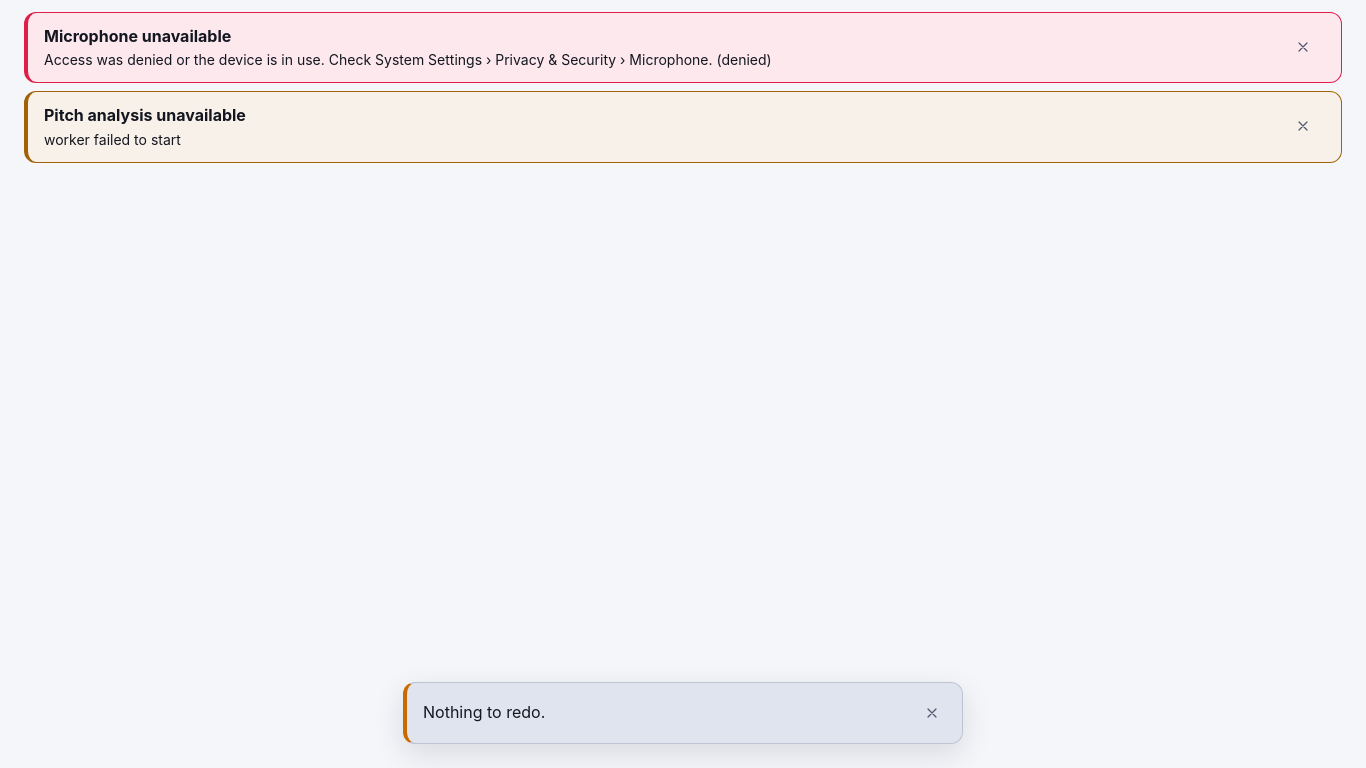
Scenario: alerts › renders errors, warnings and notices with readable text and dismisses them
Expected: the message that starts with "Microphone unavailable" is shown, [44, 26, 231, 46]
Expected: the text "Pitch analysis unavailable" is shown, [44, 106, 246, 126]
Click the button named "Dismiss error": click(1303, 47) [1281, 25, 1325, 69]
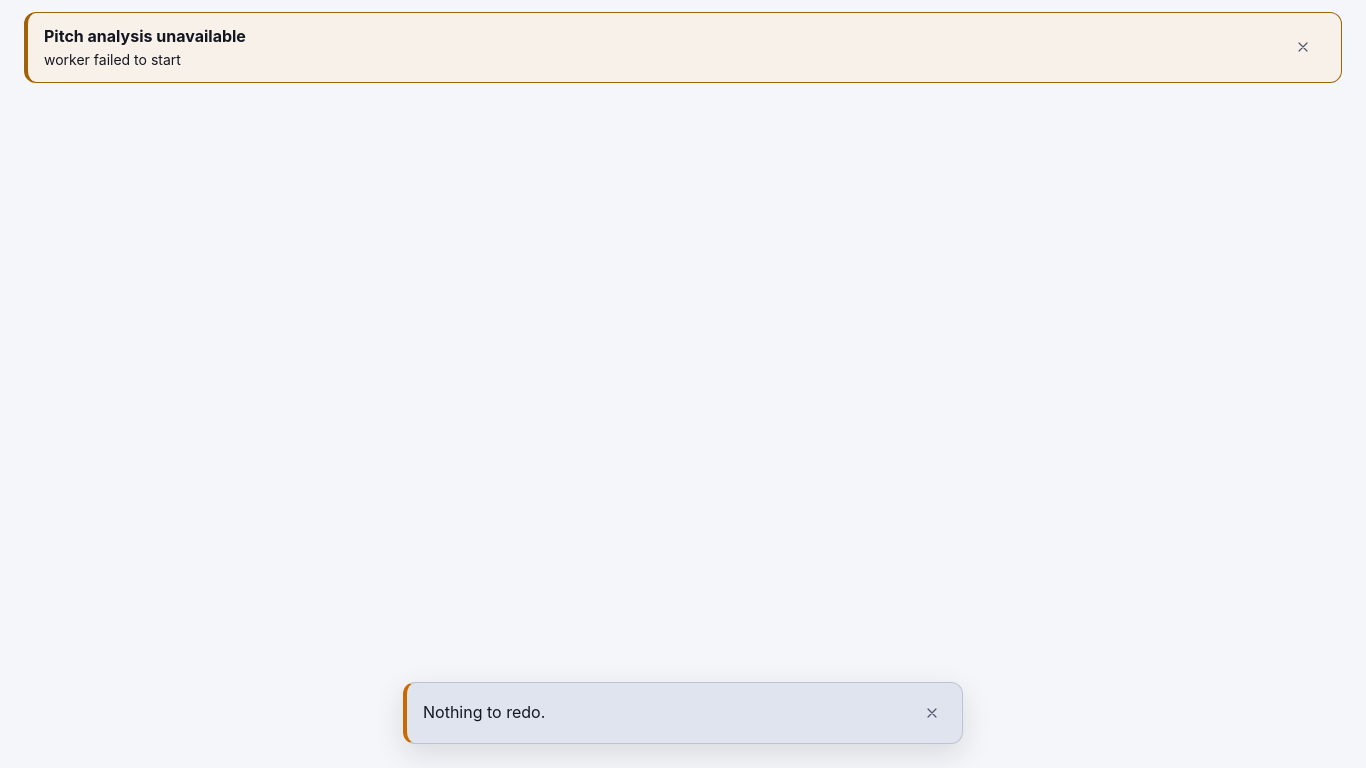
Click the button named "Dismiss warning": click(1303, 47) [1281, 25, 1325, 69]
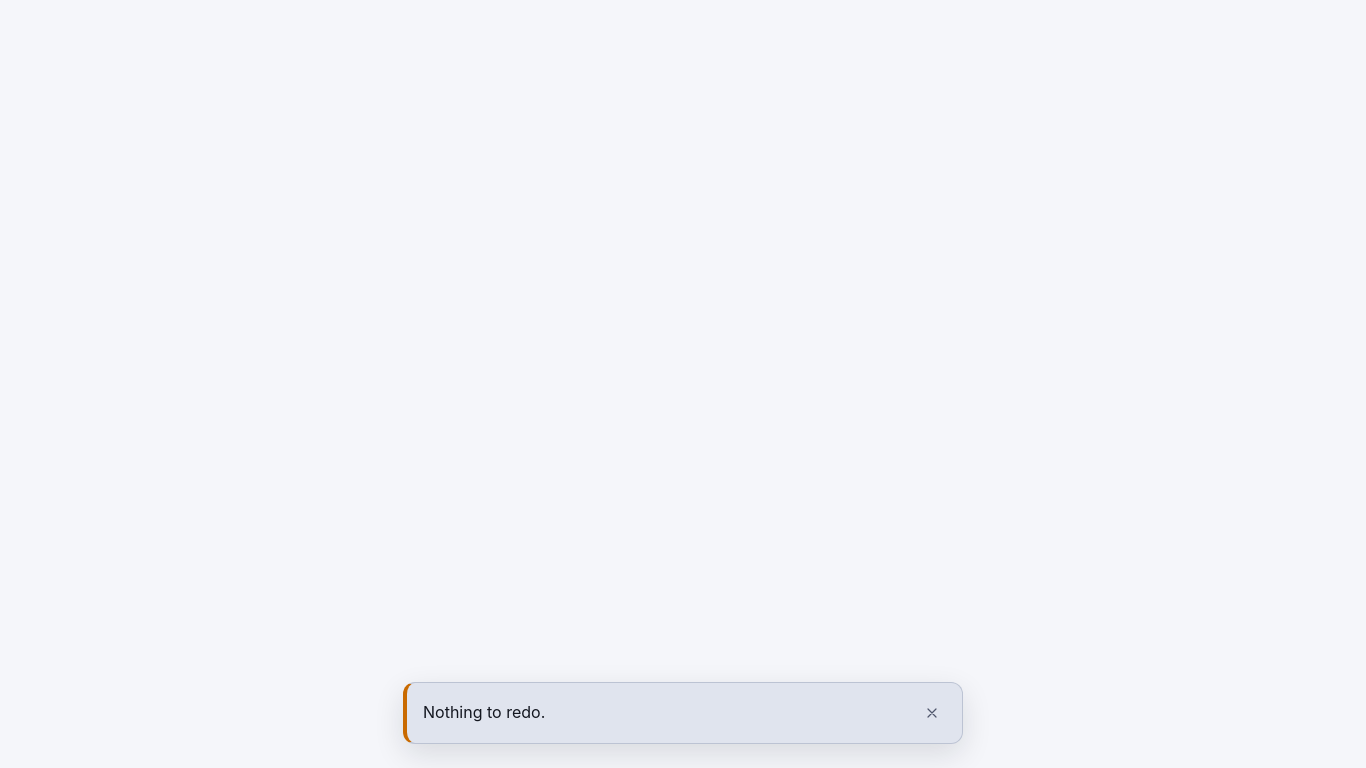
Expected: the text "Pitch analysis unavailable" is gone
